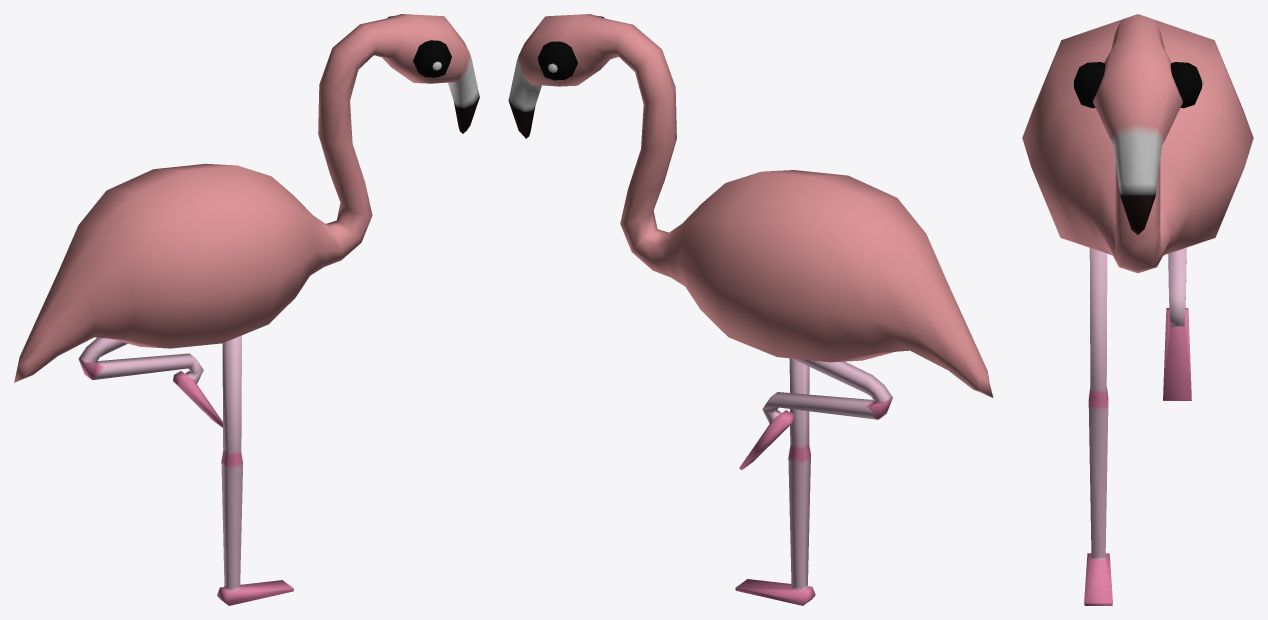
Rendered from flamingo.fbx.
3 renders of one model, left to right at view 1: azimuth 30°, elevation 25°; view 2: azimuth 150°, elevation 25°; view 3: azimuth 270°, elevation 25°, orthographic. The views are drawn at different scales.
Visible parts, largest first — view 1: Flamingo; view 2: Flamingo; view 3: Flamingo.
Boxes of the visible parts, <box> form: Flamingo: <box>14,14,479,605</box>; Flamingo: <box>508,14,993,605</box>; Flamingo: <box>1022,14,1253,605</box>.
Bounding box in the file's own units: 5.07 × 5.51 × 1.78.
